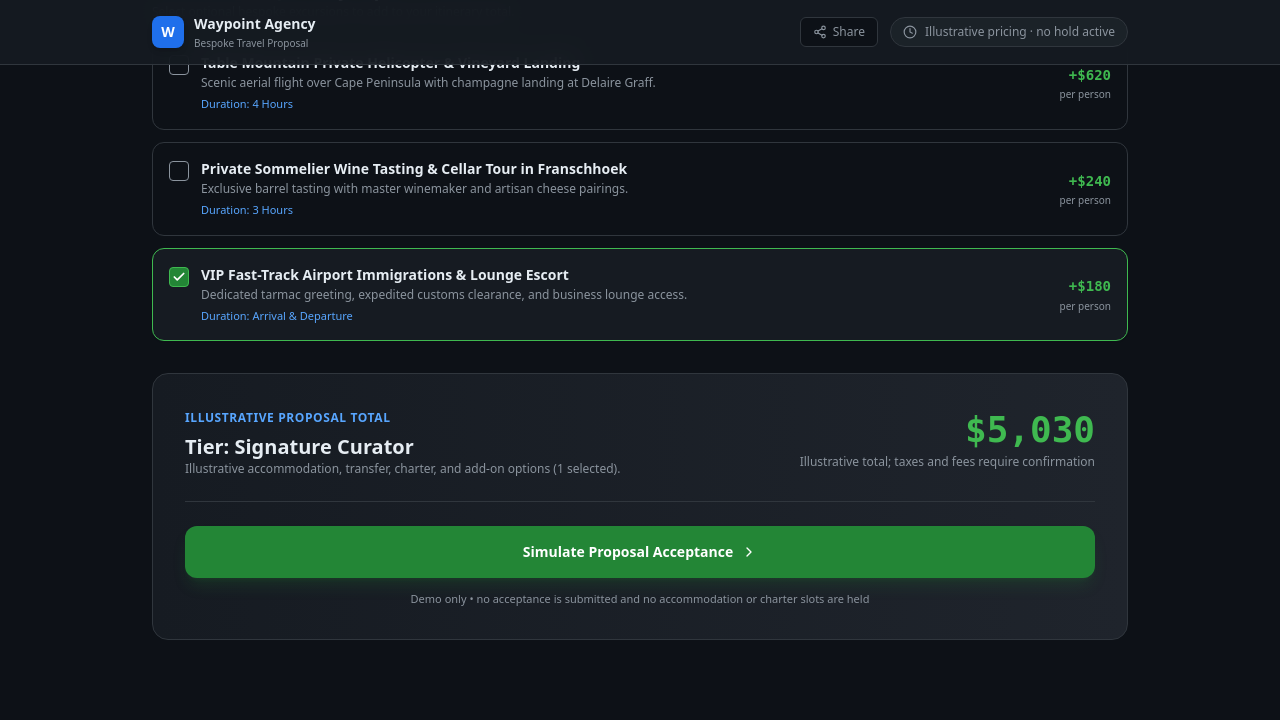
Scenario: InteractiveProposalPage › describes acceptance as simulated instead of claiming a DMC hold exists
This screenshot has width=1280, height=720.
(page scrolled)
Step 1. Click the button "Simulate Proposal Acceptance" → click(640, 552), box x1=185 y1=526 x2=1095 y2=578
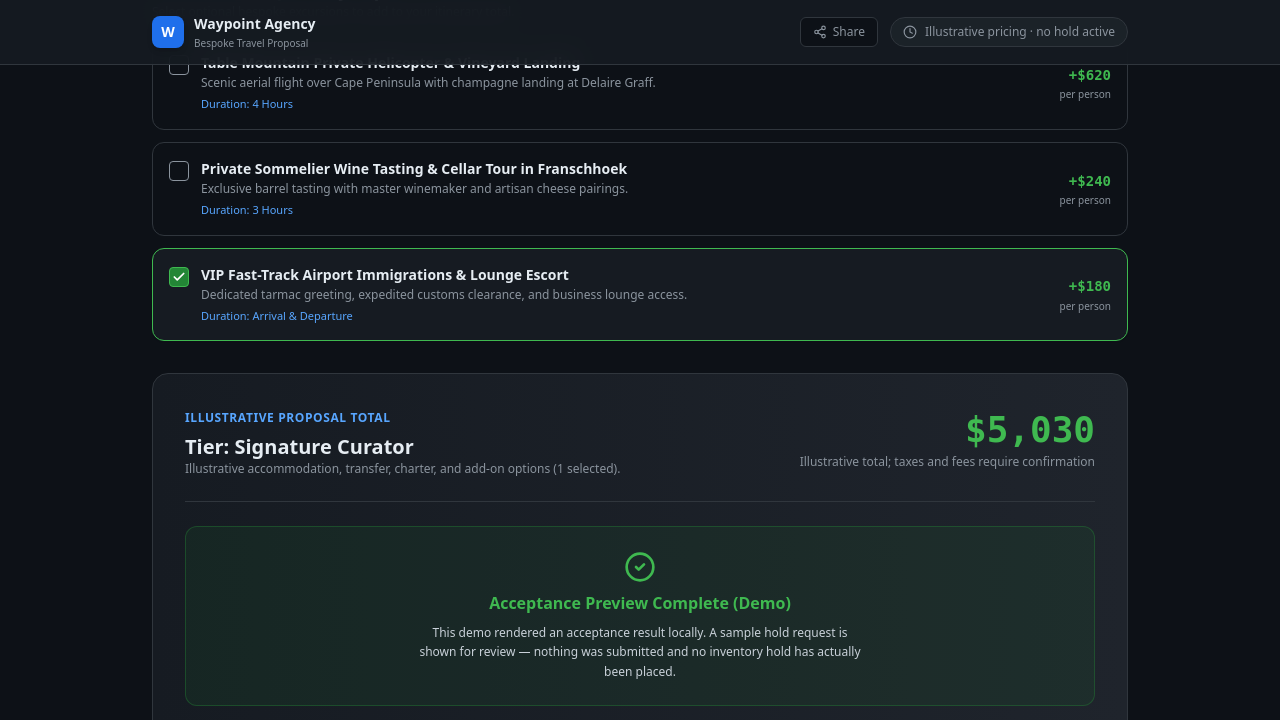
Expected: the heading "Acceptance Preview Complete (Demo)" is shown, x1=489 y1=592 x2=791 y2=614
Expected: the text "no inventory hold has actually been placed" is shown, x1=419 y1=624 x2=860 y2=680
